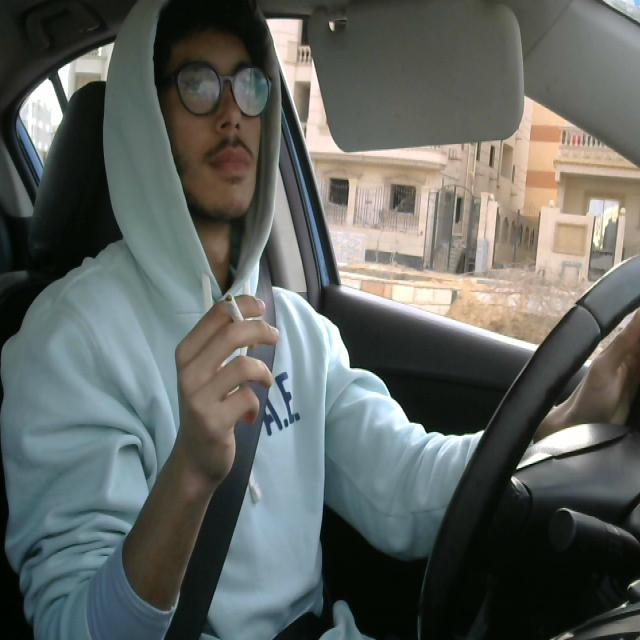smoking: (218, 289, 256, 337)
